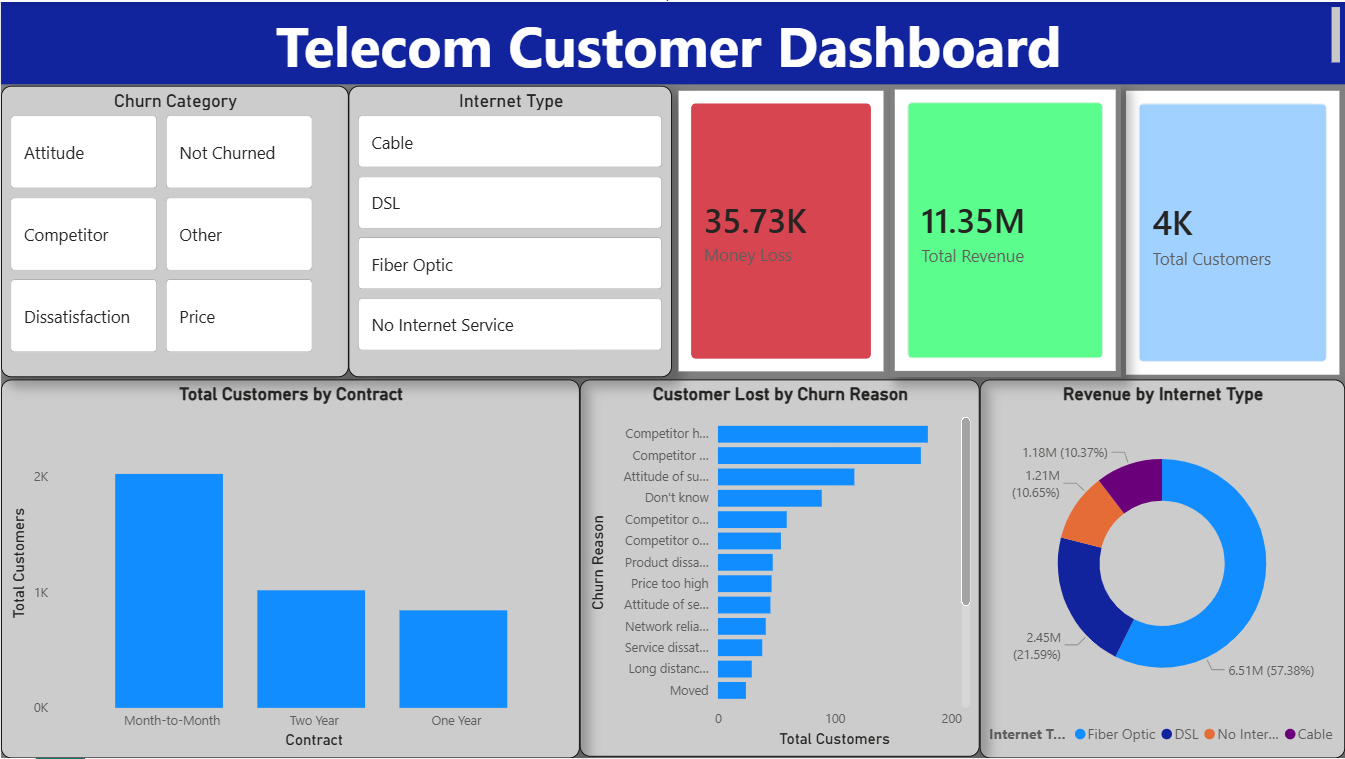

This screenshot's page, from the dashboard's own definition file:
{"tool":"powerbi","page":{"name":"Page 1","canvas":[1280,720],"ordinal":0},"visuals":[{"type":"cardVisual","fields":{"Data":["telecom_customer_churn.Total Customers"]},"box":[1066.7,79.8,213.1,281],"z":0},{"type":"donutChart","title":"Revenue by Internet Type","fields":{"Y":["Sum(telecom_customer_churn.Total Revenue)"],"Category":["telecom_customer_churn.Internet Type"]},"box":[932.1,359.5,347.6,360.7],"z":1000},{"type":"barChart","title":"Customer Lost by Churn Reason ","fields":{"Category":["telecom_customer_churn.Churn Reason"],"Y":["telecom_customer_churn.Total Customers"]},"box":[551.2,359.5,381,359.5],"z":2000},{"type":"cardVisual","fields":{"Data":["Sum(telecom_customer_churn.Total Revenue)"]},"box":[846.4,78.6,220.2,278.6],"z":3000},{"type":"textbox","box":[0,0,1280.3,78.2],"z":4000},{"type":"columnChart","title":"Total Customers by Contract ","fields":{"Category":["telecom_customer_churn.Contract"],"Y":["telecom_customer_churn.Total Customers"]},"box":[0,359.5,551.2,360.7],"z":5000},{"type":"advancedSlicerVisual","fields":{"Values":["telecom_customer_churn.Churn Category"]},"box":[0,79.8,331,277.4],"z":6000},{"type":"advancedSlicerVisual","fields":{"Values":["telecom_customer_churn.Internet Type"]},"box":[331,79.8,308.3,277.4],"z":7000},{"type":"cardVisual","fields":{"Data":["Sum(telecom_customer_churn.Monthly Charge)"]},"box":[640.5,79.8,206,277.4],"z":8000}]}

Visuals, with their boxes in screenshot pixels (x1, y1, x2, y2), scaled from the page's 1280x720 canvas onto the 1345x759 screenshot:
cardVisual - telecom_customer_churn.Total Customers: x1=1121, y1=84, x2=1344, y2=380
"Revenue by Internet Type" donutChart: x1=979, y1=379, x2=1344, y2=758
"Customer Lost by Churn Reason " barChart: x1=579, y1=379, x2=980, y2=758
cardVisual - Sum(telecom_customer_churn.Total Revenue): x1=889, y1=83, x2=1121, y2=377
textbox: x1=0, y1=0, x2=1344, y2=82
"Total Customers by Contract " columnChart: x1=0, y1=379, x2=579, y2=758
advancedSlicerVisual - telecom_customer_churn.Churn Category: x1=0, y1=84, x2=348, y2=377
advancedSlicerVisual - telecom_customer_churn.Internet Type: x1=348, y1=84, x2=672, y2=377
cardVisual - Sum(telecom_customer_churn.Monthly Charge): x1=673, y1=84, x2=889, y2=377
